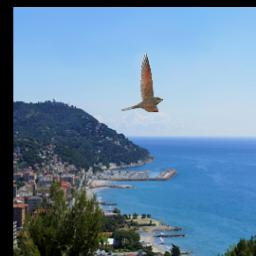Cuckoo: (121, 53, 163, 112)
